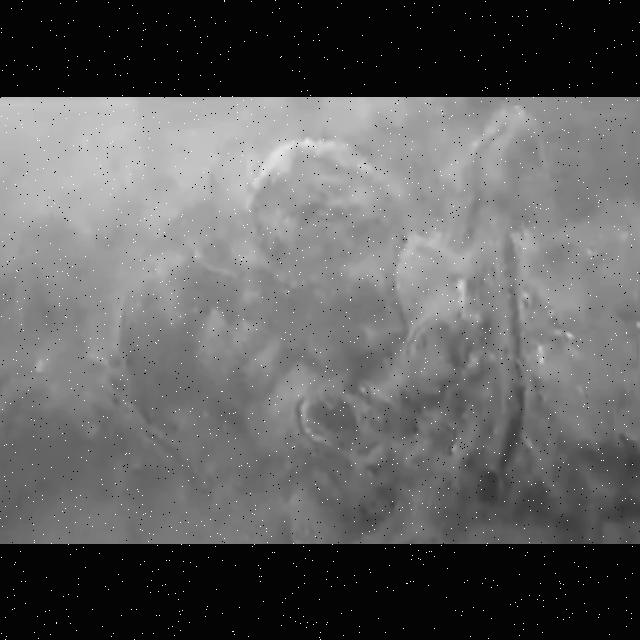Oyster-Closed: (243, 133, 425, 350)
Oyster-Open: (489, 224, 558, 491), (451, 107, 567, 251), (294, 380, 396, 476), (410, 304, 474, 408)
